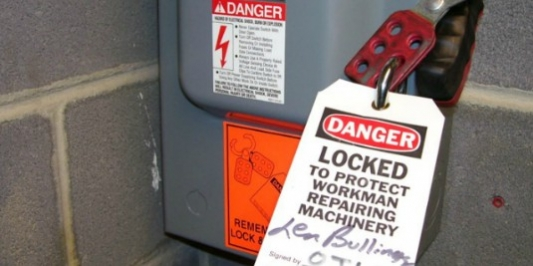hasp: (341, 4, 455, 85)
tag: (255, 79, 447, 266)
